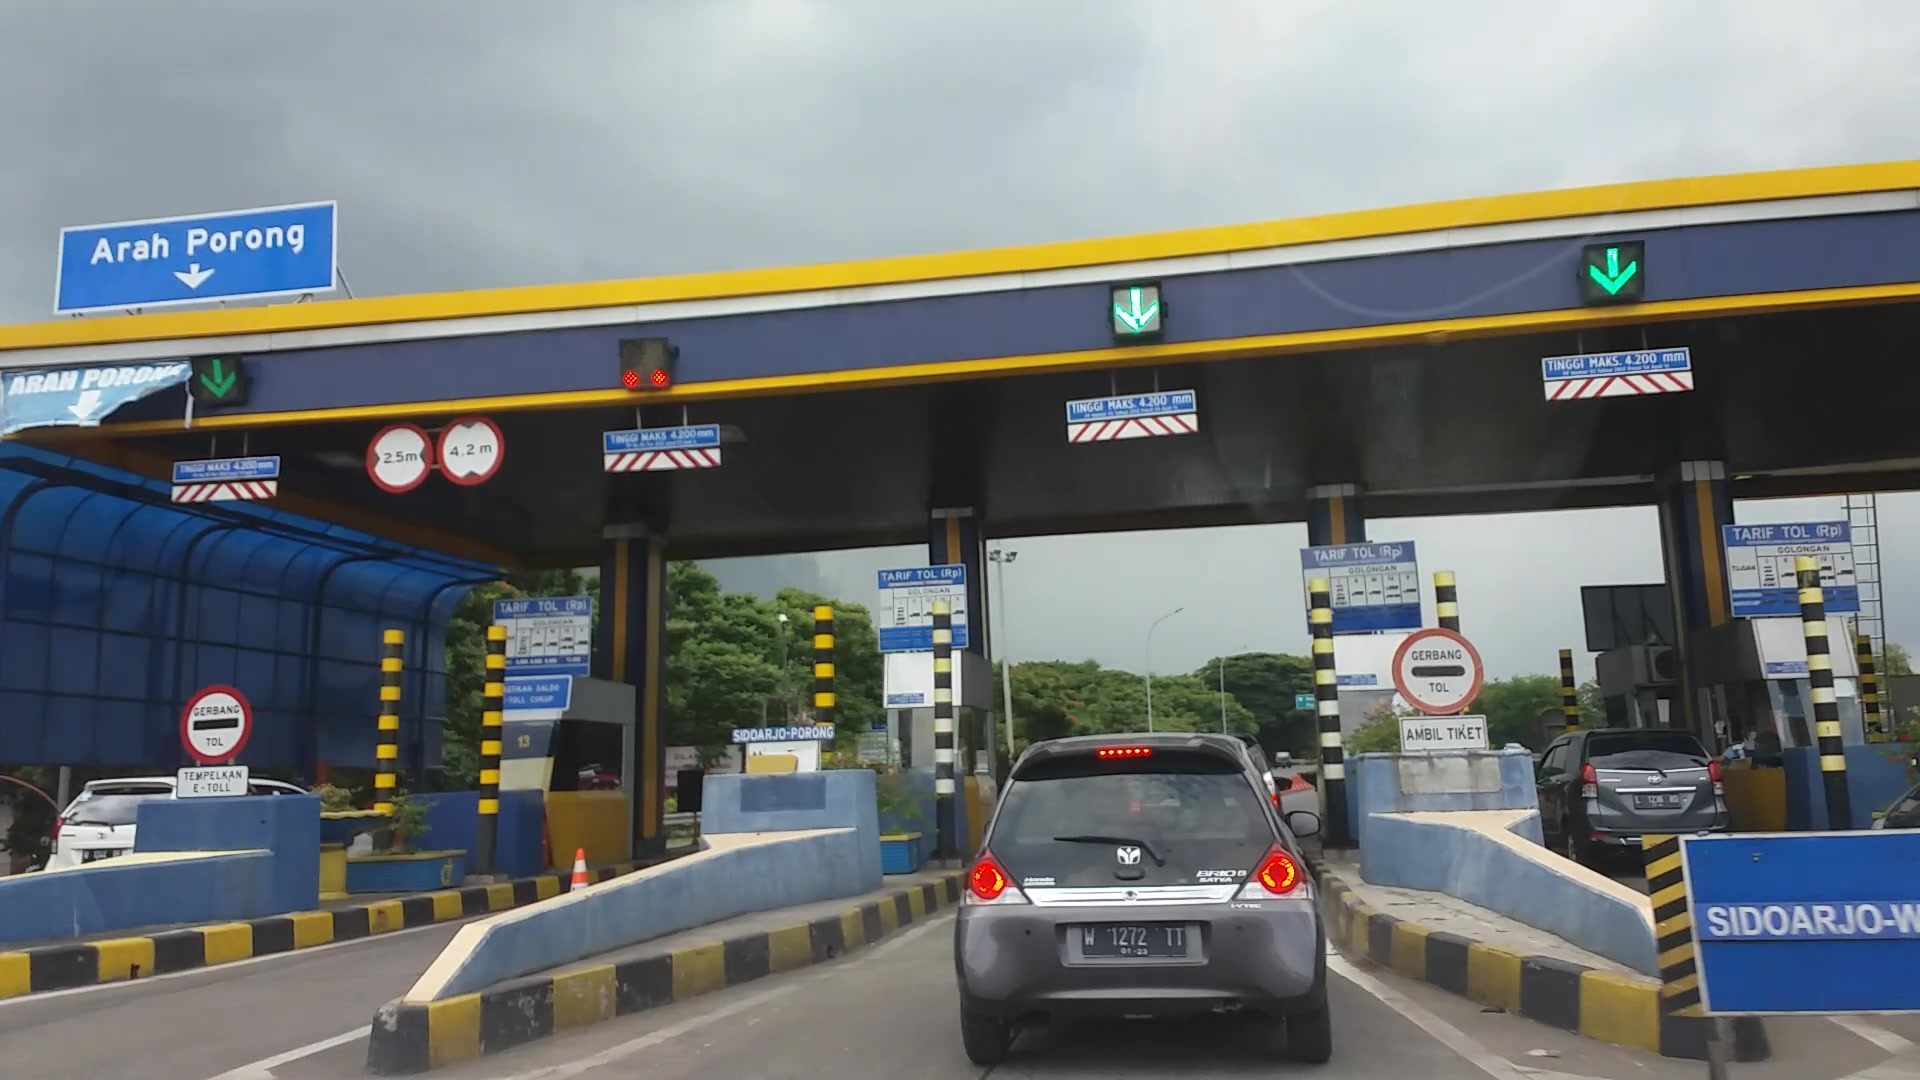plate_positive: (1083, 923, 1187, 957)
